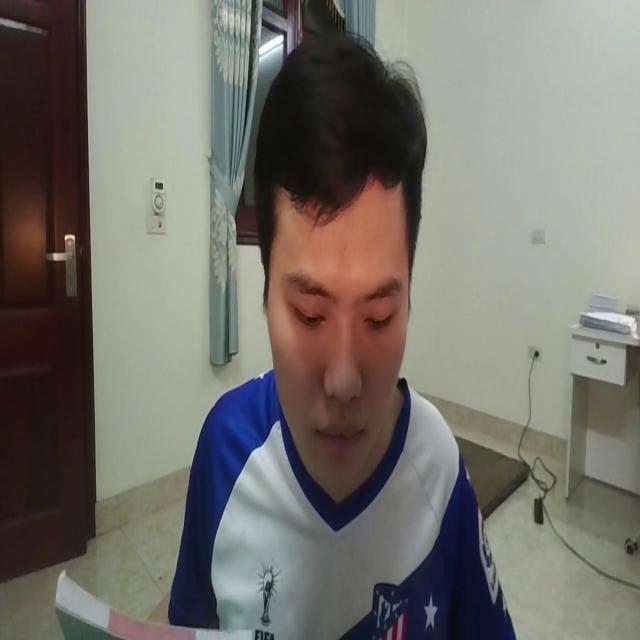book: (41, 553, 258, 640)
student: (166, 24, 518, 640)
